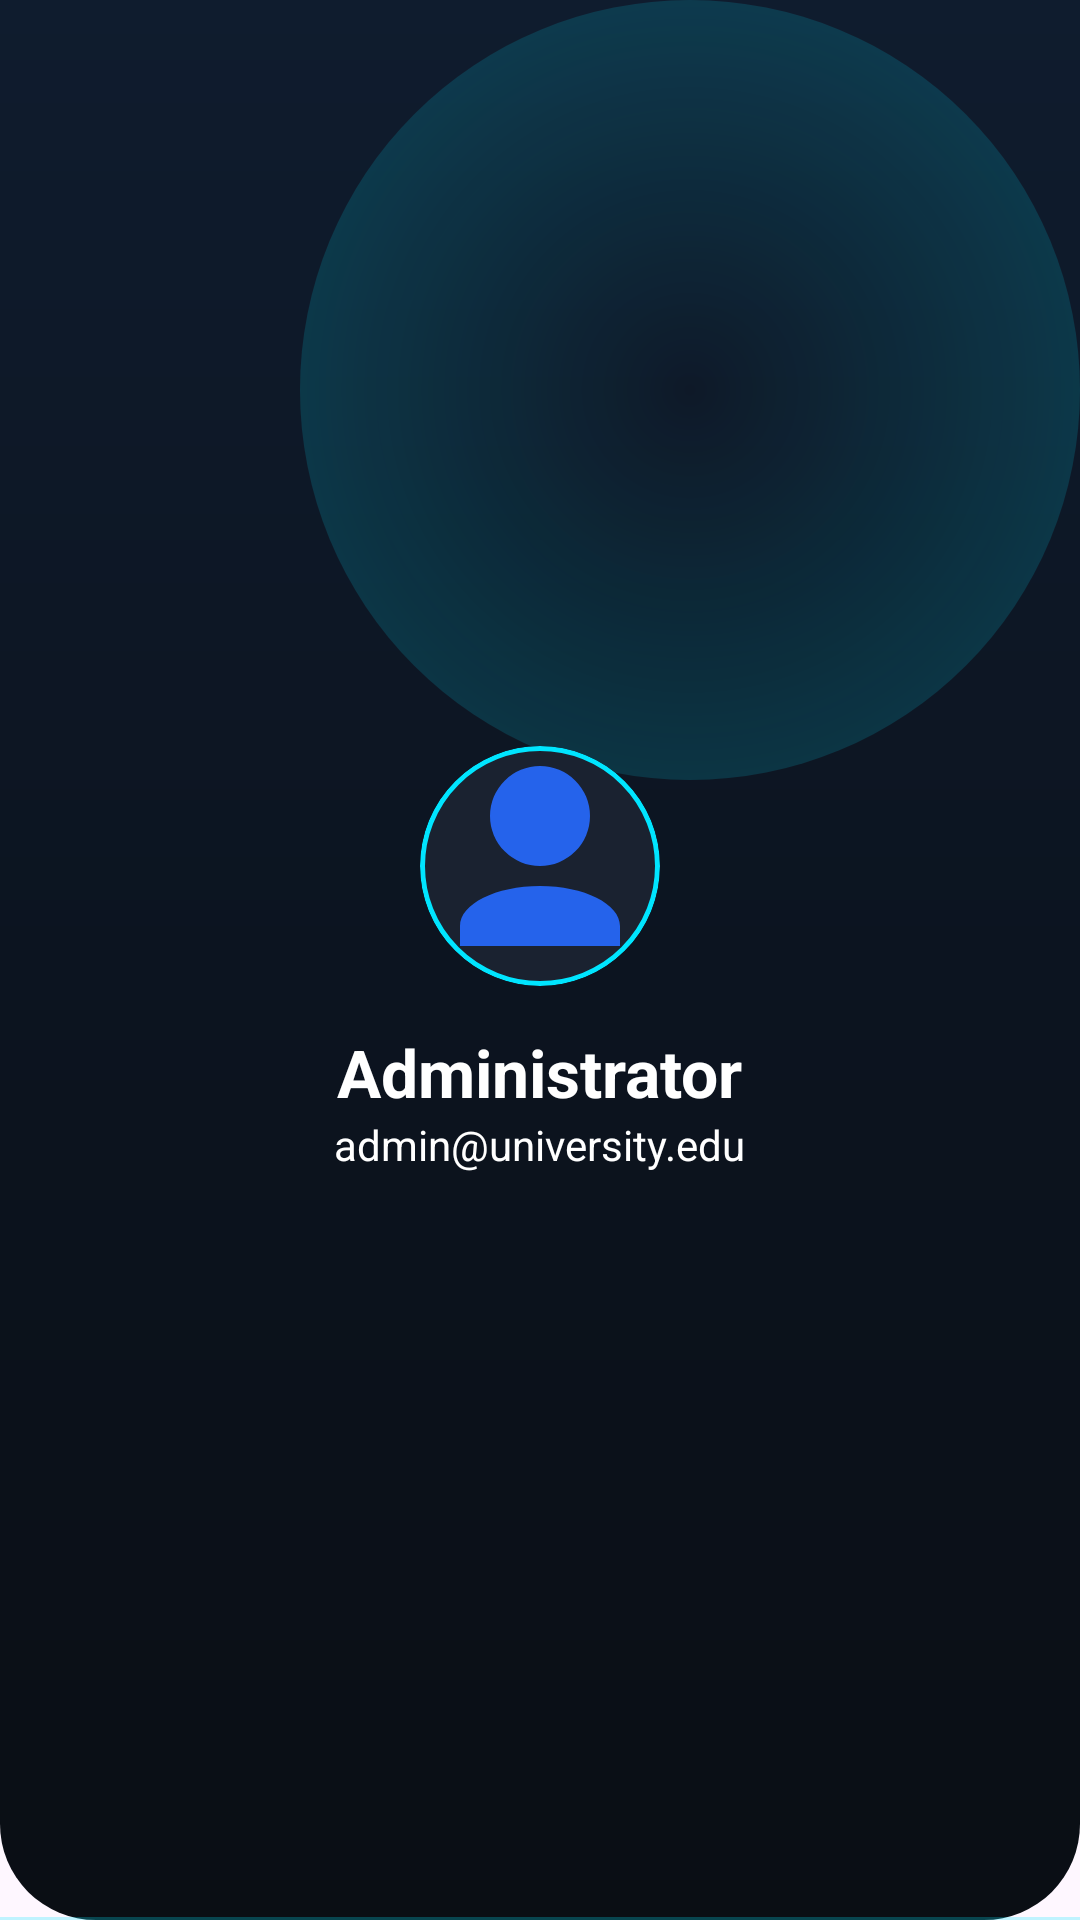

Icon bounding boxes for this 1080px x 1920px phone screenshot, format BBox(x1, y1, x2, y2):
profile: BBox(460, 766, 620, 946)
